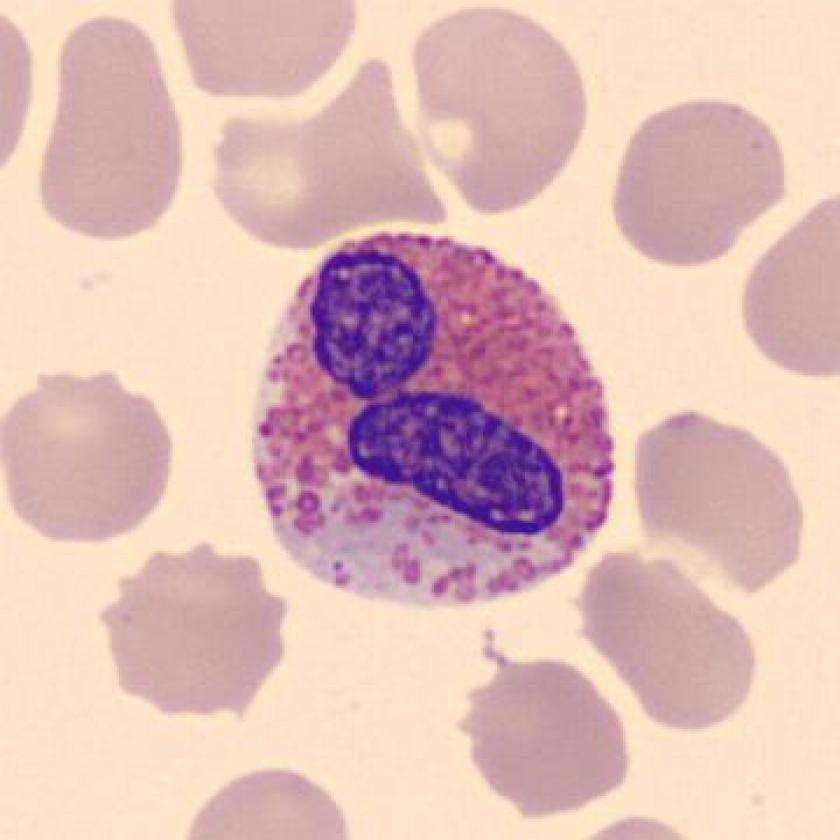eosinophil: (241, 216, 624, 621)
